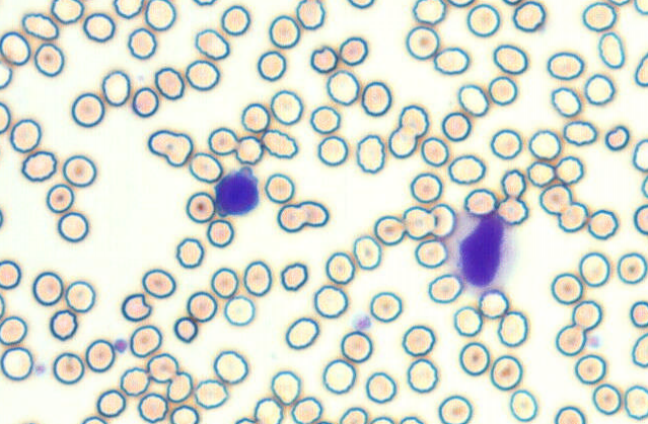LYM: (213, 169, 262, 218)
MONO: (448, 205, 517, 293)
PLT: (352, 313, 371, 330), (587, 332, 602, 349), (114, 338, 128, 354), (35, 363, 46, 376)
RBC: (147, 129, 193, 167), (321, 358, 356, 394), (212, 349, 248, 384), (489, 354, 523, 390), (313, 284, 348, 318), (405, 25, 439, 60), (70, 92, 104, 127), (326, 69, 359, 105), (270, 89, 303, 125), (447, 153, 485, 184), (355, 134, 385, 173), (466, 3, 500, 37), (0, 346, 33, 381), (284, 316, 319, 349), (21, 150, 57, 182), (578, 251, 610, 287), (261, 128, 298, 159), (497, 310, 528, 347), (402, 205, 435, 239), (62, 154, 96, 187), (406, 358, 438, 393), (458, 341, 490, 376), (194, 28, 229, 60), (9, 118, 41, 153), (185, 59, 220, 91), (492, 43, 528, 74), (546, 51, 584, 80), (129, 324, 162, 357), (188, 151, 222, 183), (401, 324, 435, 356), (268, 14, 300, 48), (32, 271, 63, 306), (33, 42, 64, 77), (427, 273, 463, 303), (361, 80, 391, 116), (101, 69, 130, 106), (539, 183, 572, 215), (340, 330, 372, 363), (52, 351, 84, 384), (528, 128, 561, 160), (550, 272, 583, 304), (457, 83, 489, 116), (512, 0, 545, 32), (194, 378, 228, 409), (270, 370, 301, 404), (141, 268, 176, 298), (352, 235, 382, 270), (581, 1, 616, 31), (243, 260, 272, 296), (437, 394, 473, 423), (433, 46, 469, 75), (21, 12, 58, 40), (597, 31, 625, 68), (365, 371, 397, 403), (583, 73, 615, 105), (555, 323, 586, 356), (398, 104, 429, 137), (369, 291, 402, 322), (409, 172, 442, 203), (154, 66, 184, 100), (0, 31, 30, 65), (186, 290, 217, 322), (223, 295, 255, 326), (373, 214, 405, 245), (57, 211, 89, 242), (144, 0, 176, 31), (587, 208, 618, 240), (490, 128, 522, 159), (616, 252, 647, 284), (146, 352, 179, 382), (85, 339, 115, 372), (325, 251, 355, 284), (82, 12, 115, 42), (65, 280, 95, 313), (414, 239, 448, 268), (137, 392, 168, 423), (571, 299, 602, 330), (557, 201, 588, 232), (264, 172, 295, 203), (317, 135, 348, 166), (550, 86, 581, 117), (185, 191, 215, 223), (574, 354, 606, 384), (388, 125, 417, 158), (463, 187, 497, 215), (240, 102, 270, 133), (478, 288, 509, 318), (256, 50, 286, 81), (220, 4, 250, 35), (453, 305, 482, 337), (592, 383, 621, 415), (127, 27, 156, 59), (509, 389, 537, 422), (429, 203, 456, 237), (562, 120, 597, 146), (119, 366, 149, 396), (441, 111, 471, 141), (295, 0, 325, 30), (276, 203, 307, 232), (210, 267, 239, 298), (175, 237, 204, 268), (207, 126, 238, 155), (309, 105, 340, 134), (496, 197, 528, 225), (49, 309, 77, 341), (420, 136, 449, 166), (45, 183, 74, 213), (488, 75, 517, 105), (338, 36, 368, 65), (131, 86, 159, 117), (290, 396, 322, 423), (412, 0, 446, 25), (555, 155, 584, 184), (235, 135, 263, 165), (206, 218, 234, 248), (280, 261, 308, 291), (96, 389, 126, 417), (166, 371, 193, 402), (624, 384, 647, 420), (50, 0, 84, 24), (299, 200, 329, 227), (0, 315, 27, 345), (526, 160, 555, 187), (500, 168, 526, 198), (253, 397, 283, 423), (0, 259, 21, 289), (553, 405, 586, 423), (112, 0, 143, 19), (631, 332, 647, 368), (169, 404, 199, 423), (632, 138, 647, 172), (629, 300, 647, 328), (339, 406, 367, 423), (634, 52, 647, 87), (633, 204, 647, 235), (0, 101, 11, 134), (0, 60, 12, 89), (347, 0, 374, 9), (80, 415, 107, 423), (633, 0, 647, 15), (369, 415, 394, 423), (399, 415, 423, 423), (447, 0, 474, 7), (234, 416, 255, 423), (641, 174, 647, 198), (192, 0, 216, 6), (608, 0, 630, 6), (0, 293, 5, 319), (313, 419, 335, 424), (502, 0, 521, 5), (0, 206, 4, 228)
Schistocyte: (120, 292, 152, 321), (309, 46, 338, 73), (605, 124, 631, 151), (174, 316, 199, 343)
